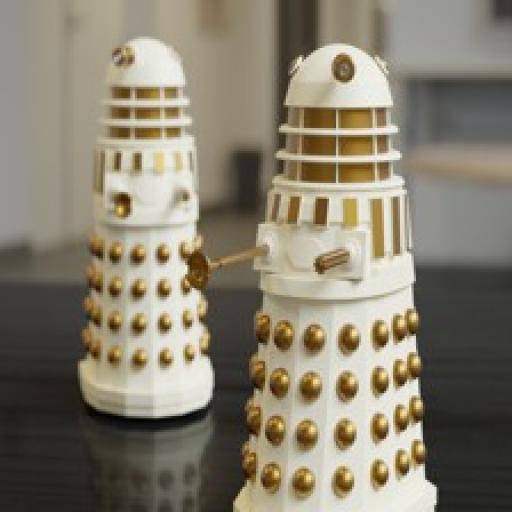dalek: (182, 41, 440, 512), (76, 33, 216, 422)
